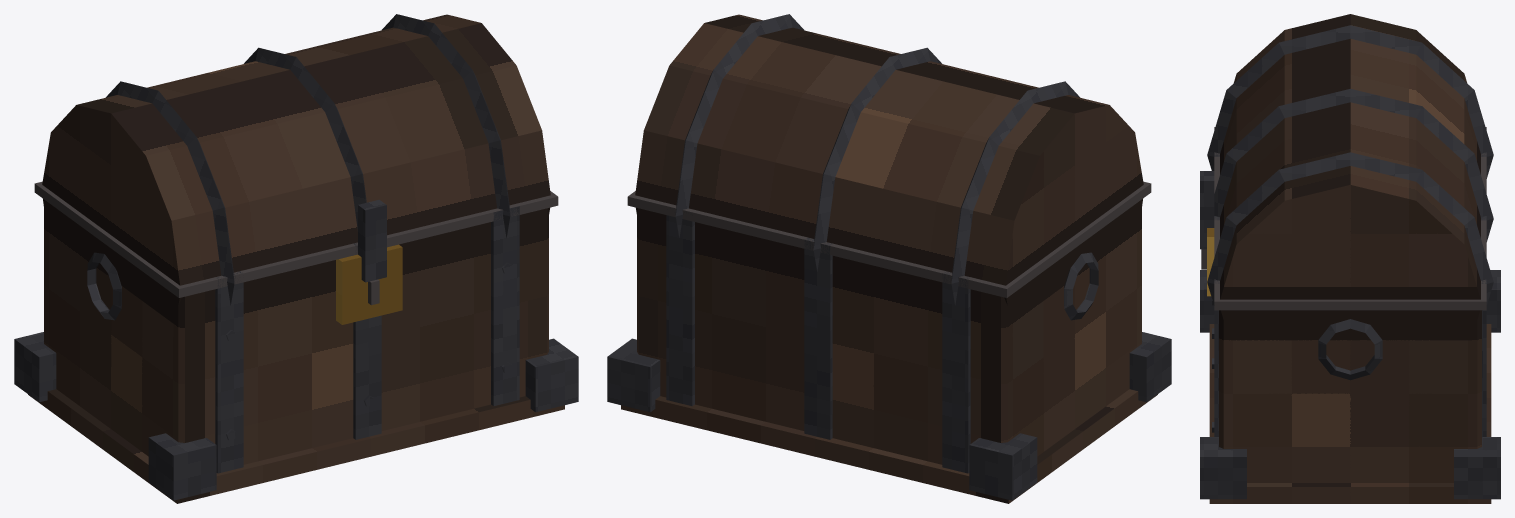
Rendered from castle_chest.glb.
The picture shows the model from 3 angles, left to right: view 1: azimuth 30°, elevation 25°; view 2: azimuth 150°, elevation 25°; view 3: azimuth 270°, elevation 25°; orthographic projection. The views are drawn at different scales.
Parts seen in each view (by area): view 1: body; view 2: body; view 3: body.
Boxes of the visible parts, <box> form: body: <box>14,14,578,503</box>; body: <box>607,14,1171,503</box>; body: <box>1200,14,1500,503</box>.
Size of the model in its own units: 0.94 by 0.765 by 0.64.
4 materials, 3 textured.
